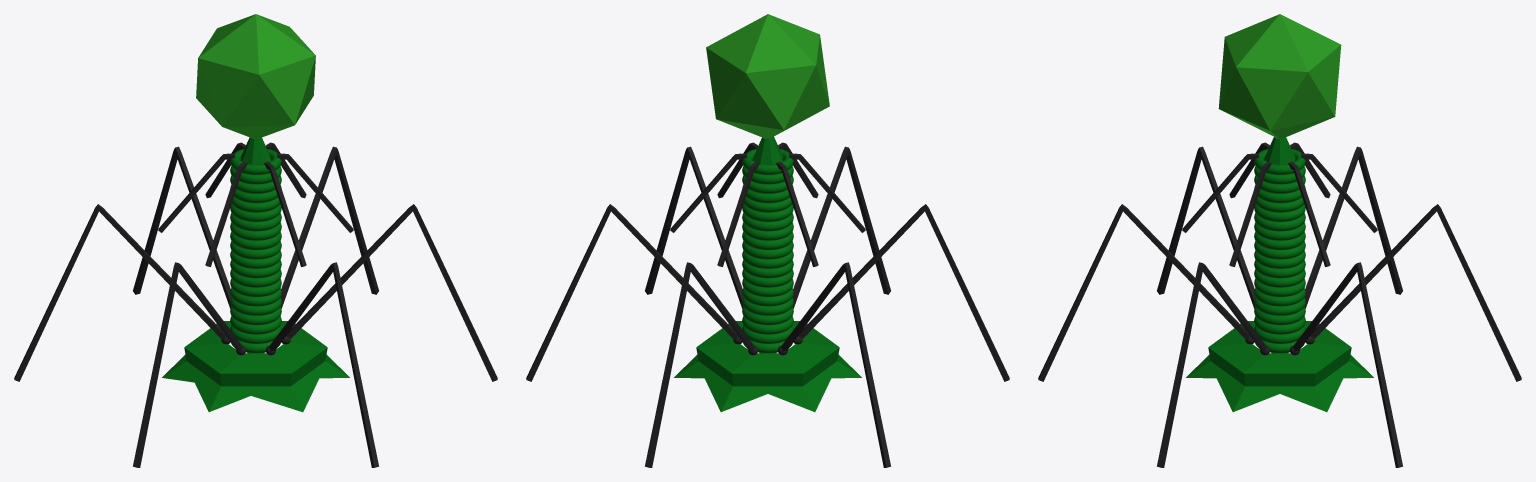
Rendered from virus_verde.fbx.
The picture shows the model from 3 angles, left to right: view 1: azimuth 30°, elevation 25°; view 2: azimuth 150°, elevation 25°; view 3: azimuth 270°, elevation 25°; orthographic projection.
Visible parts, largest first — view 1: Vert.042, Vert.020, Vert.007, Vert.003, Vert.008, Vert.009, Vert.004, Vert.005, Vert.001, Vert.013, Vert.006, Vert.010 (+15 smaller); view 2: Vert.042, Vert.020, Vert.004, Vert.008, Vert.005, Vert.007, Vert.003, Vert.009, Vert.006, Vert.012, Vert.011, Vert.013 (+15 smaller); view 3: Vert.042, Vert.020, Vert.005, Vert.009, Vert.003, Vert.004, Vert.007, Vert.008, Vert.010, Vert.011, Vert.001, Vert.012 (+15 smaller).
Boxes of the visible parts, box(x1,y1,x2,y2) form: Vert.042: box(196, 14, 315, 138); Vert.020: box(162, 321, 349, 412); Vert.007: box(14, 204, 225, 381); Vert.003: box(286, 204, 497, 381); Vert.008: box(133, 262, 242, 467); Vert.009: box(269, 262, 378, 467); Vert.004: box(280, 146, 378, 308); Vert.005: box(133, 146, 231, 308); Vert.001: box(264, 162, 306, 266); Vert.013: box(205, 162, 247, 266); Vert.006: box(158, 153, 234, 232); Vert.010: box(277, 153, 353, 232); Vert.042: box(706, 14, 829, 138); Vert.020: box(674, 321, 861, 411); Vert.004: box(526, 204, 737, 381); Vert.008: box(798, 204, 1009, 381); Vert.005: box(645, 262, 754, 467); Vert.007: box(781, 262, 890, 467); Vert.003: box(645, 146, 743, 308); Vert.009: box(792, 146, 890, 308); Vert.006: box(776, 162, 818, 266); Vert.012: box(717, 162, 759, 266); Vert.011: box(670, 153, 746, 232); Vert.013: box(789, 153, 865, 232); Vert.042: box(1218, 14, 1341, 138); Vert.020: box(1186, 321, 1373, 411); Vert.005: box(1310, 204, 1521, 381); Vert.009: box(1038, 204, 1249, 381); Vert.003: box(1157, 262, 1266, 467); Vert.004: box(1293, 262, 1402, 467); Vert.007: box(1304, 146, 1402, 308); Vert.008: box(1157, 146, 1255, 308); Vert.010: box(1229, 162, 1271, 266); Vert.011: box(1288, 162, 1330, 266); Vert.001: box(1182, 153, 1258, 232); Vert.012: box(1301, 153, 1377, 232).
Bounding box in the file's own units: 607 × 587 × 697.
